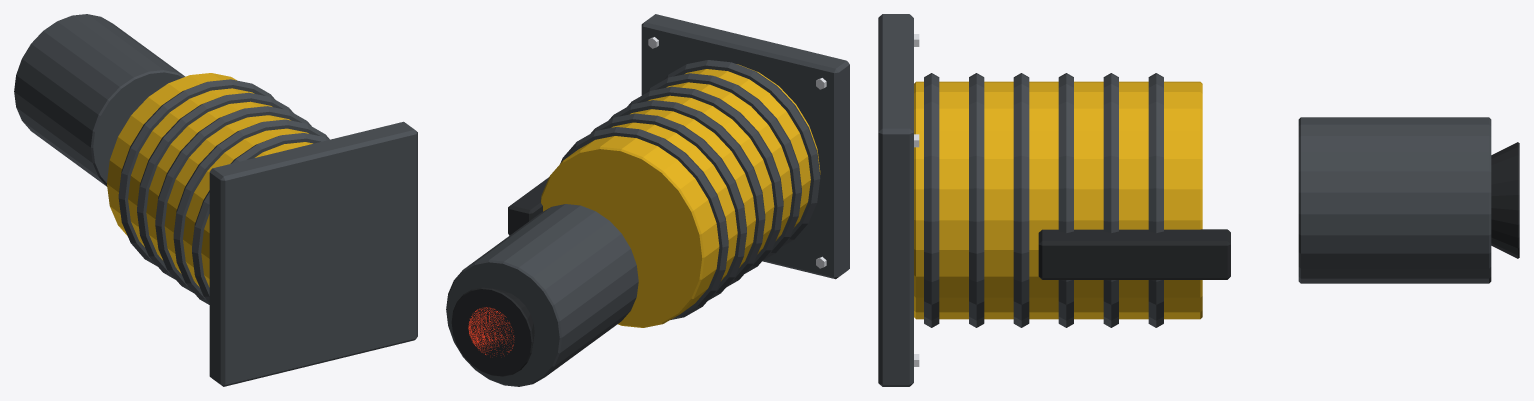
File: mining_laser.glb
The picture shows the model from 3 angles, left to right: view 1: azimuth 30°, elevation 25°; view 2: azimuth 150°, elevation 25°; view 3: azimuth 270°, elevation 25°; orthographic projection. The views are drawn at different scales.
Parts seen in each view (by area): view 1: mining_laser; view 2: mining_laser; view 3: mining_laser.
Boxes of the visible parts, x1,y1,x2,y2 form: mining_laser: (14, 14, 417, 386); mining_laser: (446, 14, 849, 386); mining_laser: (878, 14, 1519, 386).
Bounding box in the file's own units: 0.8 × 0.8 × 1.8.
